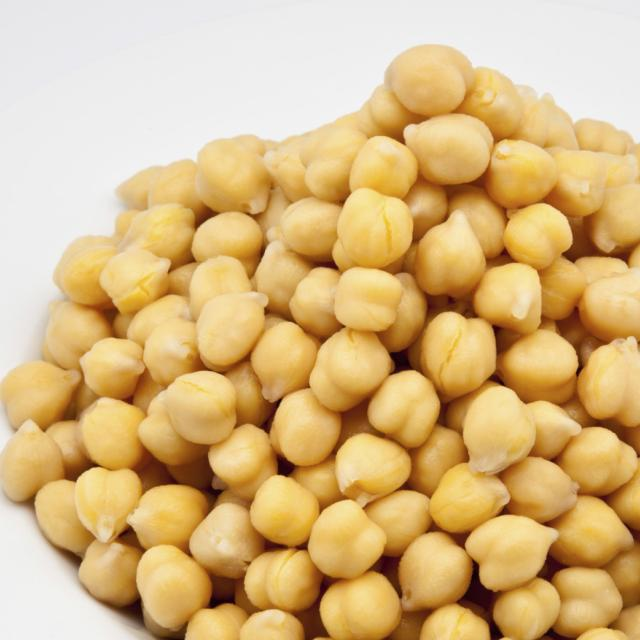garbanzos: (3, 29, 636, 638)
